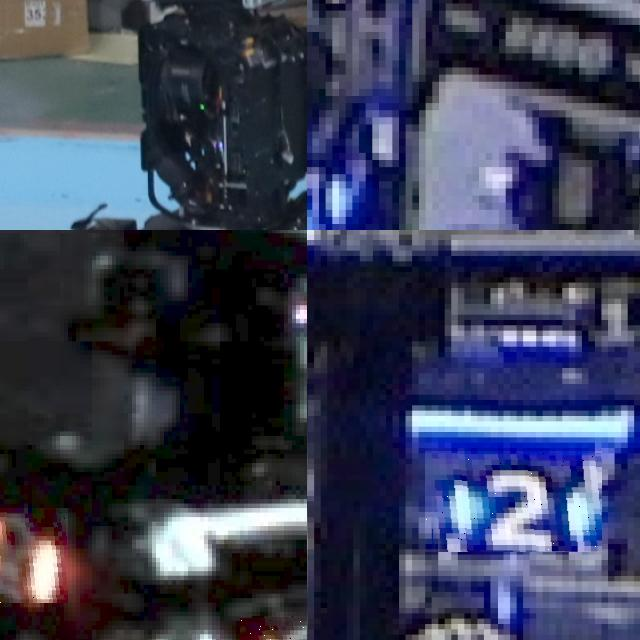B2: (425, 451, 602, 552)
Rs: (0, 508, 68, 602)
